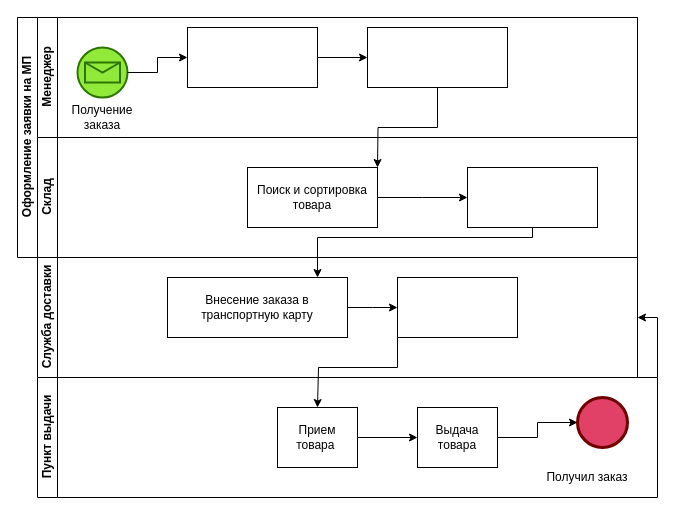
Image size: 683x515. Some labels were removed from this diagram. The centre of each missing label's shape, as x and y in pixels:
Доставка заказа: [457,307]
Обработка заказа: [252,57]
Отправка информации о заказе на склад: [437,57]
Оформление накладной: [532,197]
